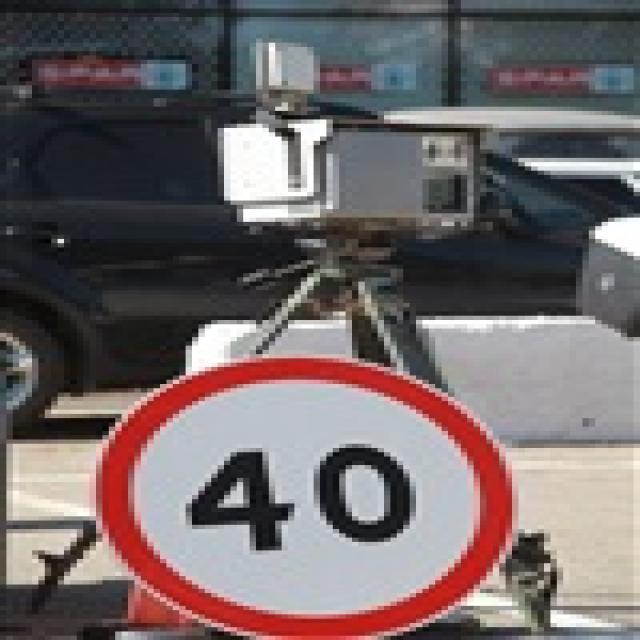speed limit 40: (90, 358, 524, 638)
